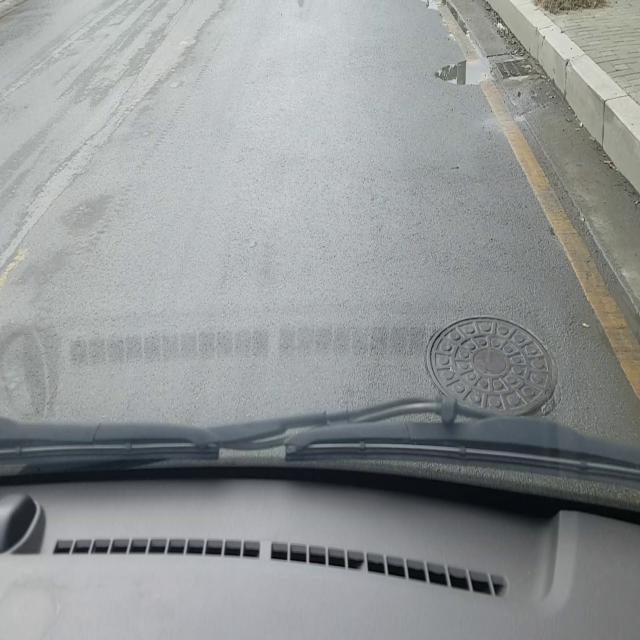Pothole: (424, 314, 561, 418)
